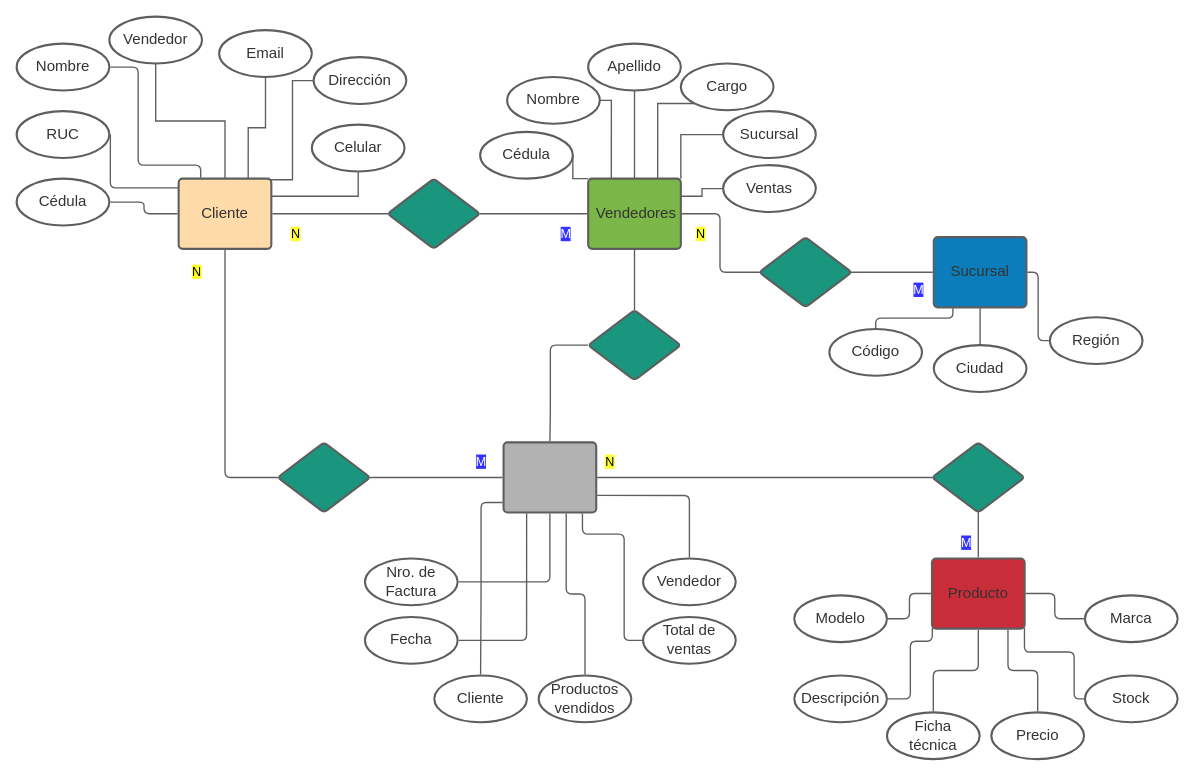
Some shapes in this 1194 by 776 pixel diagram are drawn without their labels. Here are the shapes that lost their labels. From the top down, the centre of each, then its label:
At [433,213]: "atiende".
At [805,272]: "trabajan".
At [634,345]: "realizan".
At [323,477]: "efectua".
At [549,477]: "Venta".
At [978,477]: "contiene".
